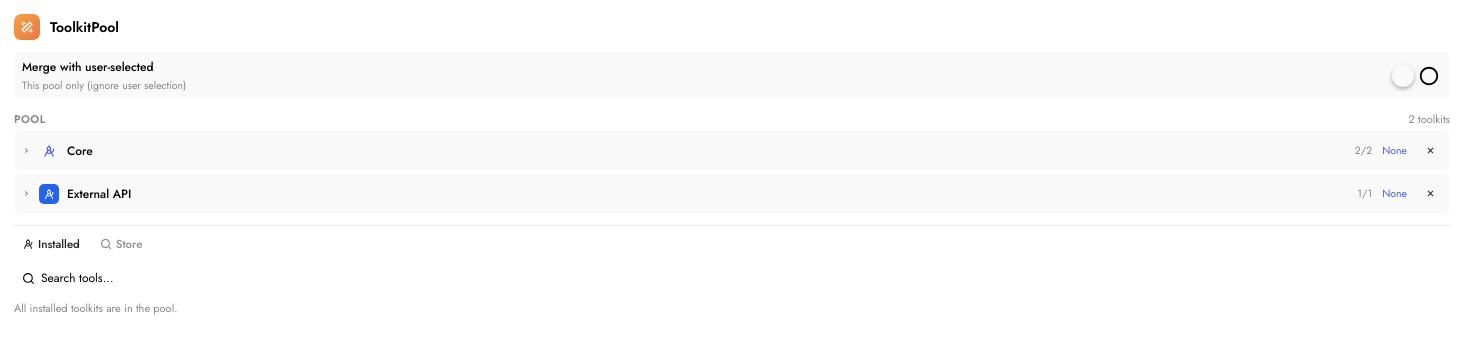
ToolPoolPanel — pool › clicking a pool row expands only that toolkit
Click the text "Core".
click(80, 150)  # box [67,142,93,160]
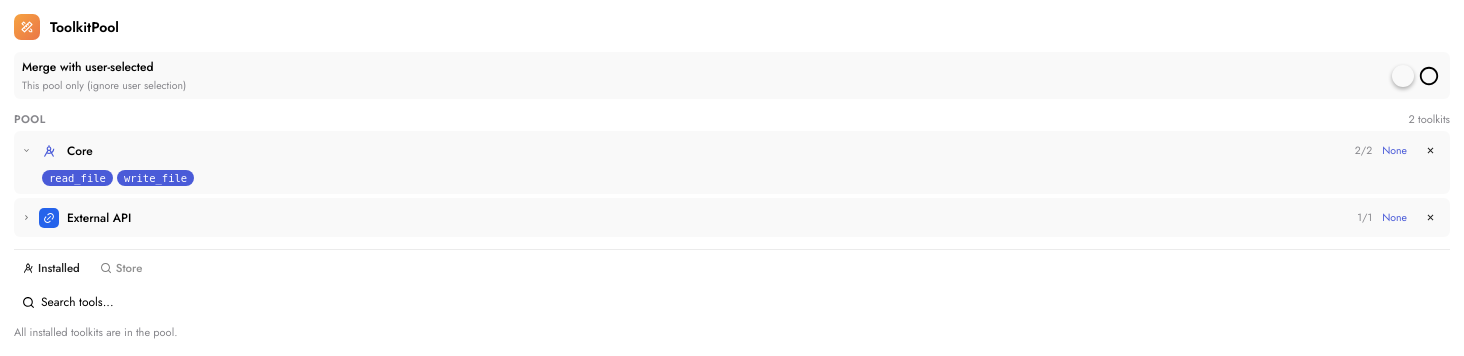
Now the text "read_file" is shown, box [42,170,113,186]
Now the text "write_file" is shown, box [117,170,194,186]
